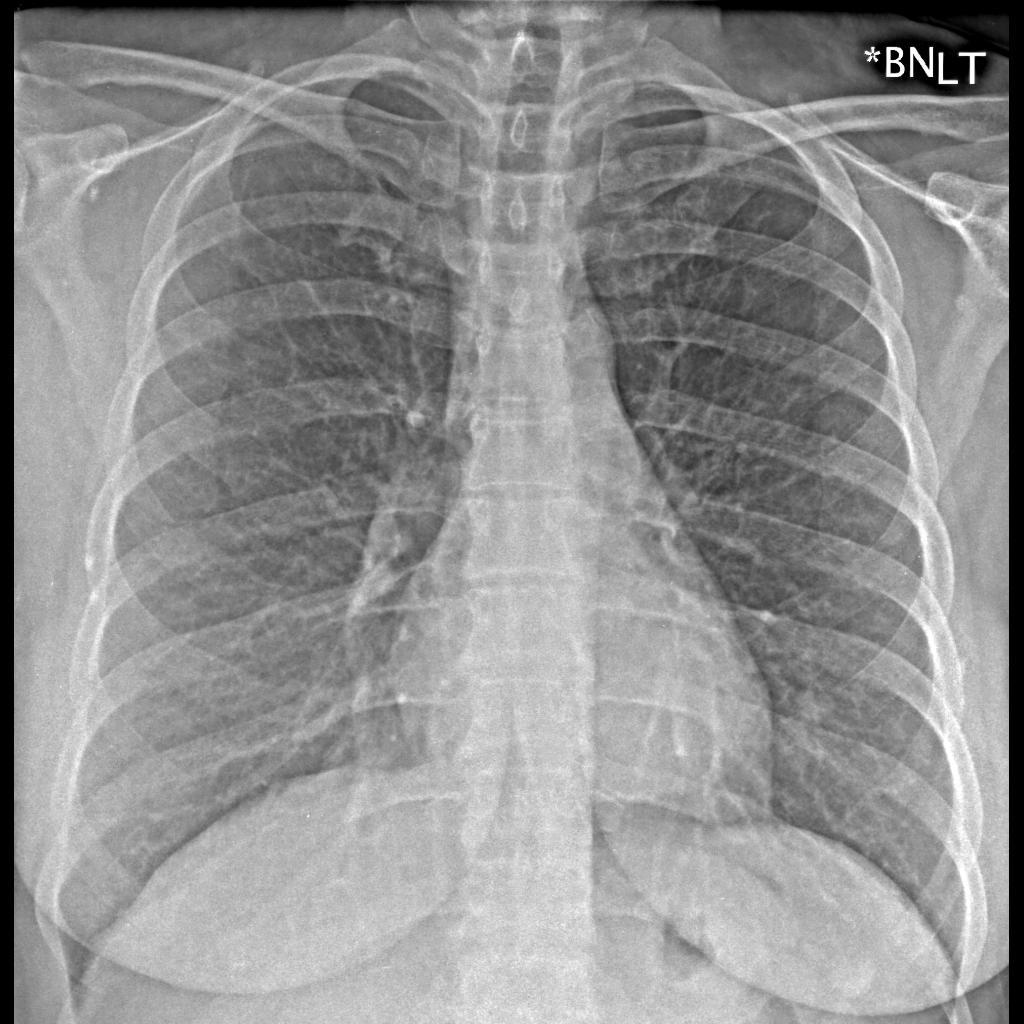Nodule: (794, 680, 839, 732)
